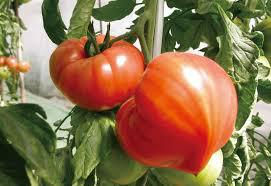tomato: (117, 50, 240, 169), (49, 36, 144, 111)
